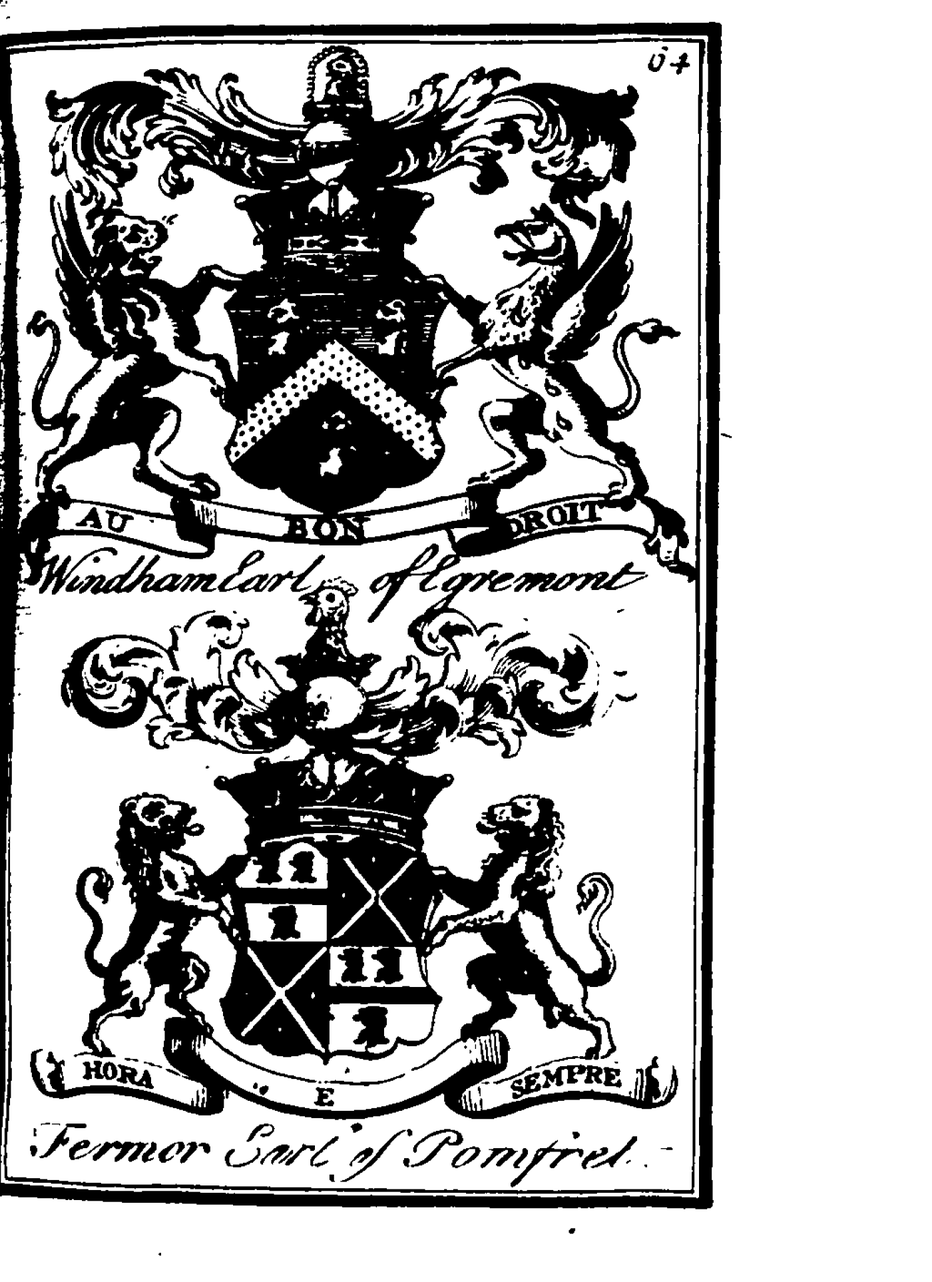coat_of_arms: (13, 601, 695, 1187), (11, 51, 695, 615)
